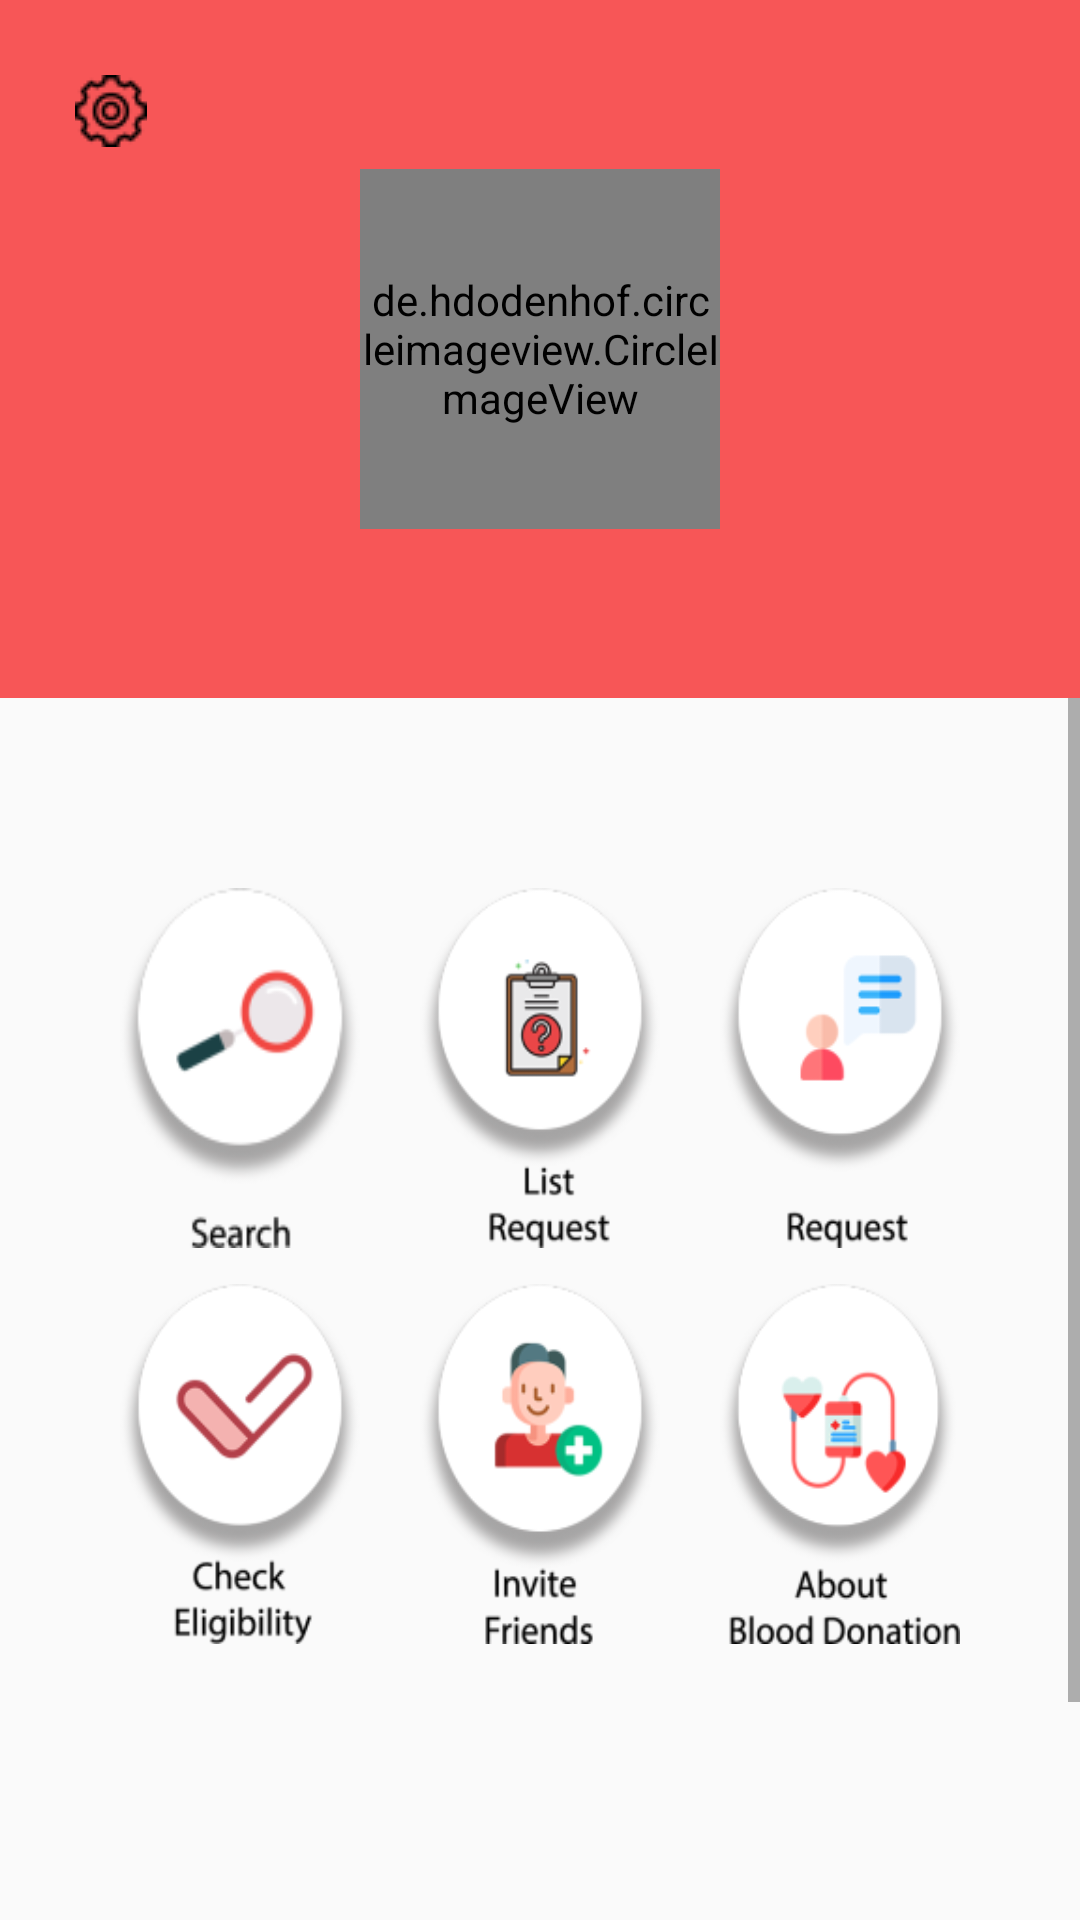

Where to tap for icons on this 1080 x 1920 app screen, as [x,y]:
gear: [111,111]
